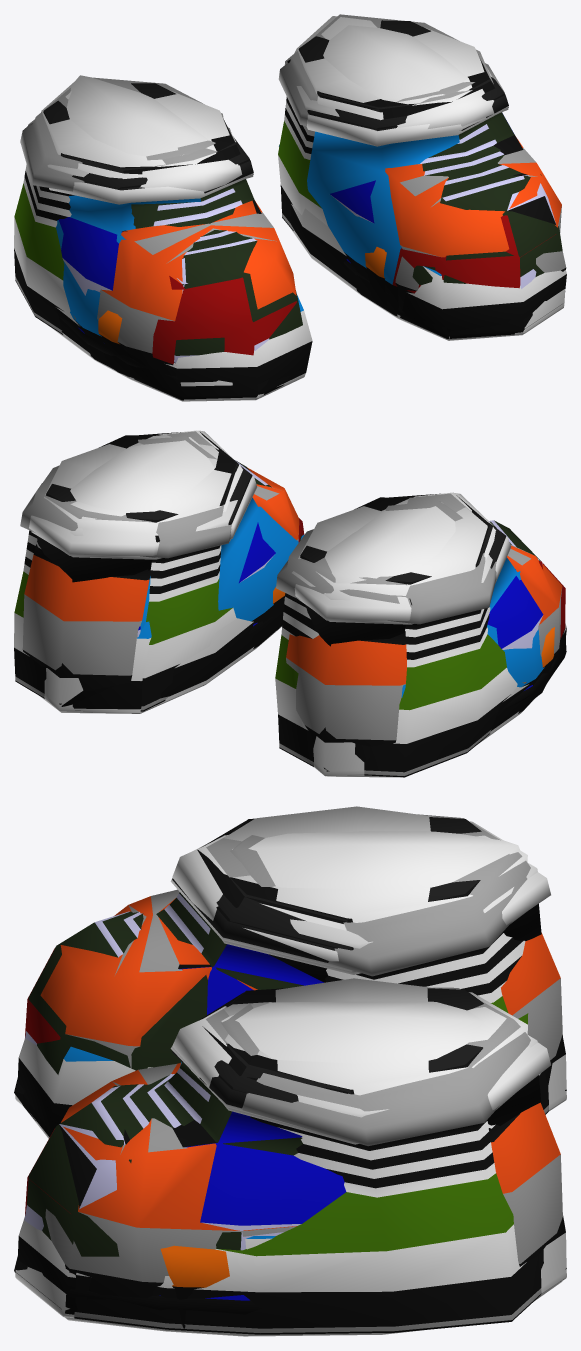
File: Ten_Shoes.FBX
The picture shows the model from 3 angles, top to bottom: view 1: azimuth 30°, elevation 25°; view 2: azimuth 150°, elevation 25°; view 3: azimuth 270°, elevation 25°; orthographic projection. The views are drawn at different scales.
Parts seen in each view (by area): view 1: Shoe005, Shoe002, Shoe006, Shoe004, Shoe007, Shoe010, Shoe003, Shoe001, Shoe008; view 2: Shoe007, Shoe006, Shoe002, Shoe003, Shoe005, Shoe010, Shoe001, Shoe008, Shoe004; view 3: Shoe007, Shoe006, Shoe002, Shoe004, Shoe010, Shoe003, Shoe001, Shoe005, Shoe008.
Boxes of the visible parts, x1,y1,x2,y2 form: Shoe005: (49,90,561,400); Shoe002: (48,25,566,401); Shoe006: (43,20,566,370); Shoe004: (62,81,562,391); Shoe007: (14,14,504,334); Shoe010: (44,20,556,380); Shoe003: (28,16,491,381); Shoe001: (65,17,565,400); Shoe008: (70,16,469,166); Shoe007: (14,436,517,777); Shoe006: (22,435,562,747); Shoe002: (31,437,566,777); Shoe003: (29,435,554,700); Shoe005: (61,465,566,771); Shoe010: (47,435,565,712); Shoe001: (44,430,565,776); Shoe008: (42,431,472,762); Shoe004: (59,432,540,769); Shoe007: (74,814,548,1334); Shoe006: (40,817,562,1310); Shoe002: (17,831,562,1336); Shoe004: (15,821,566,1270); Shoe010: (24,817,483,1314); Shoe003: (160,806,550,1328); Shoe001: (15,835,566,1318); Shoe005: (14,878,225,1309); Shoe008: (206,835,543,1269).
Bounding box in the file's own units: 84.93 × 34.59 × 65.43.
